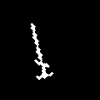double_crochet: (31, 24, 52, 79)
